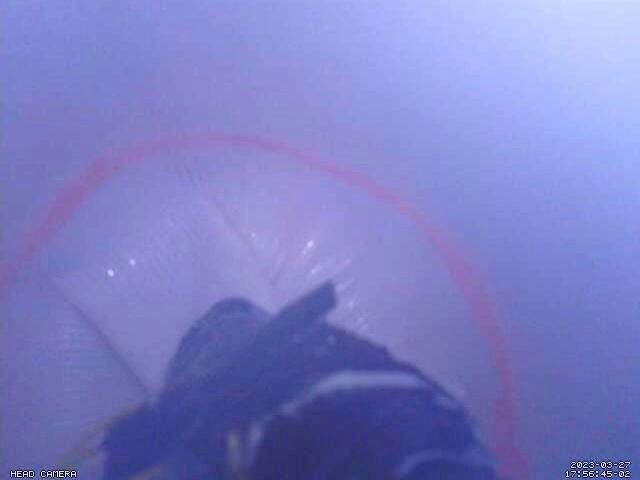head: (0, 132, 527, 480)
